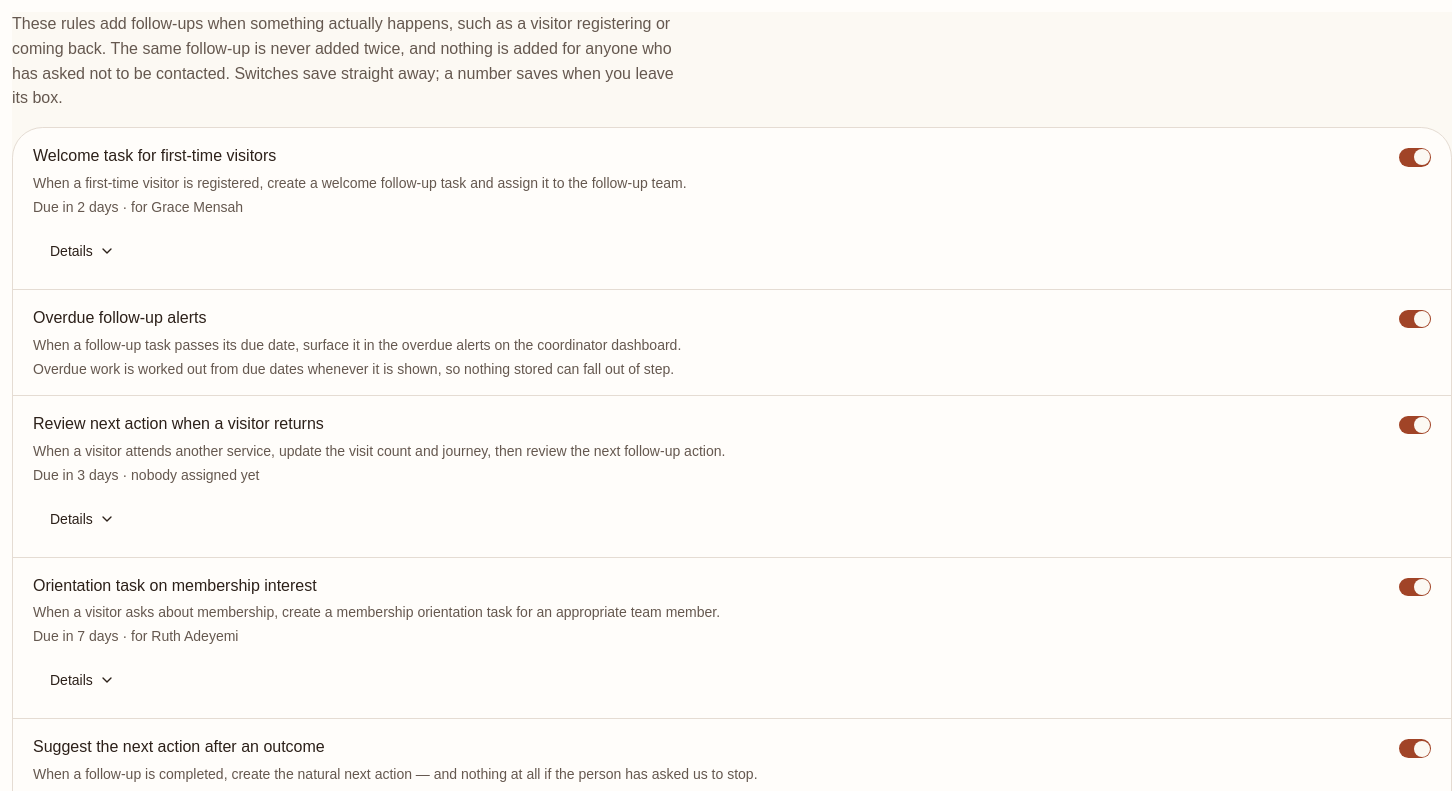
it: AutomationSettings › asks for a number instead of saving an empty box as 0 (H3/M7)
Click the button "Details" below "Welcome task for first-time visitors" at (82, 251), box [33,229,132,273]
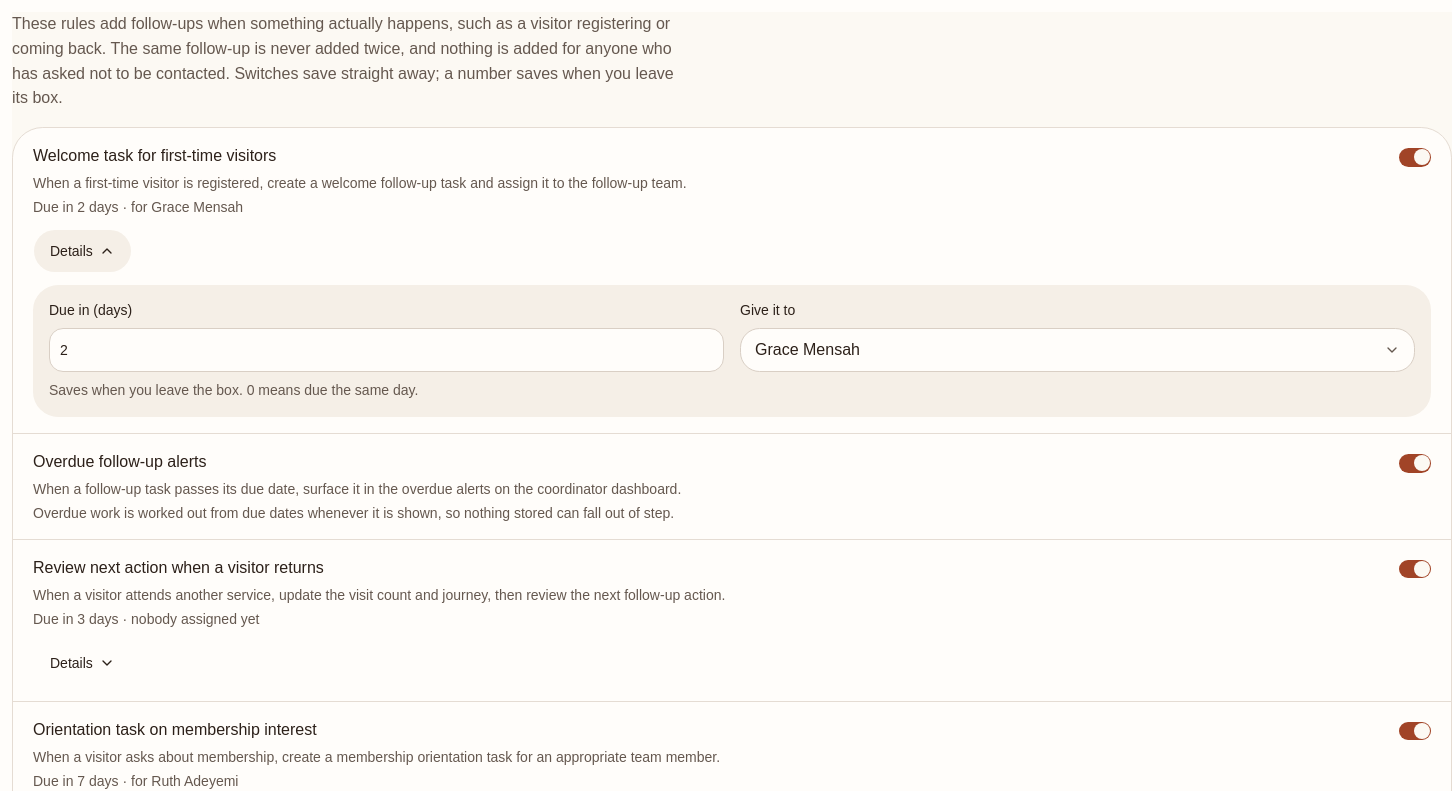
Clear the number field labelled "Due in (days)" at (386, 350), box [49,328,724,372]
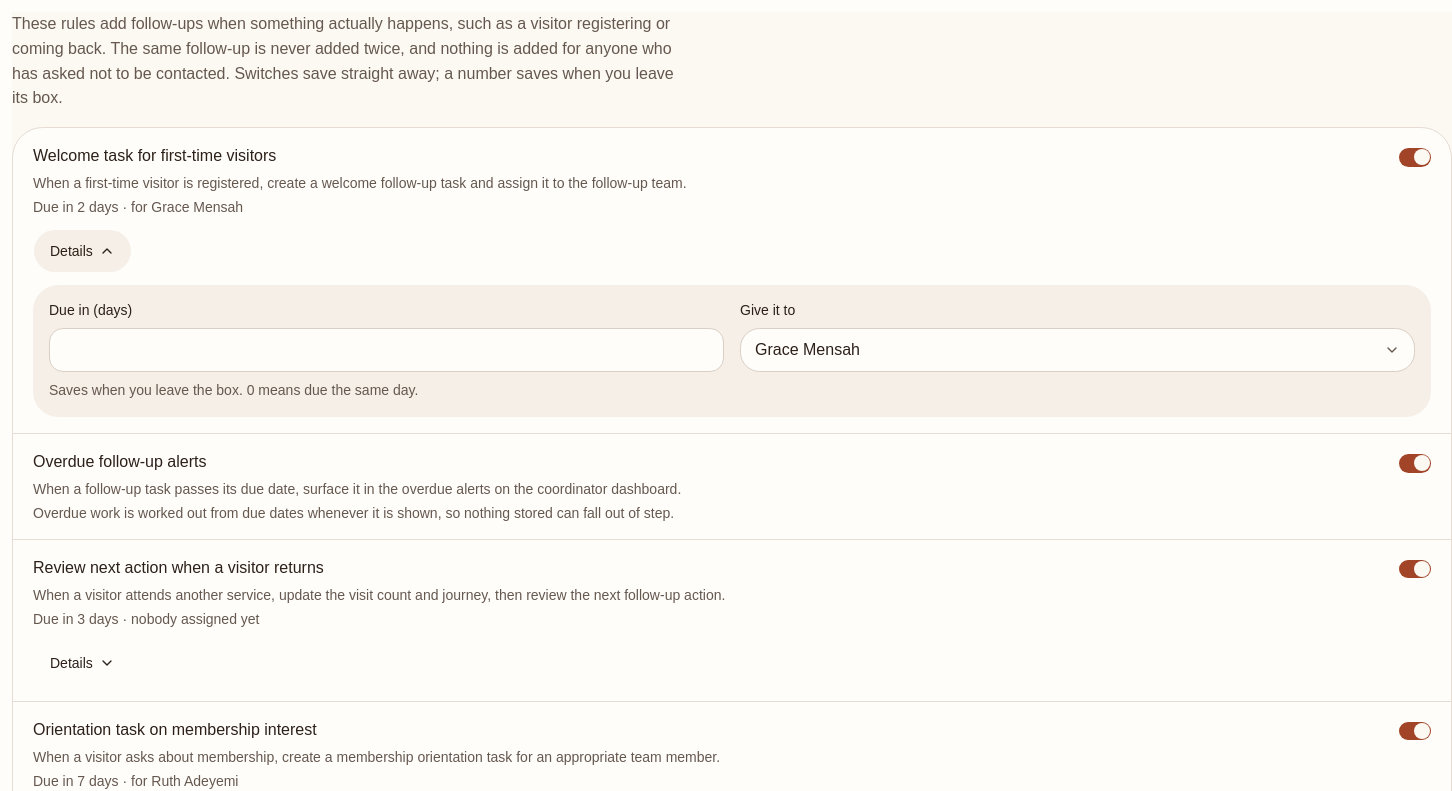
Leave the number field labelled "Due in (days)", box [49,328,724,372]
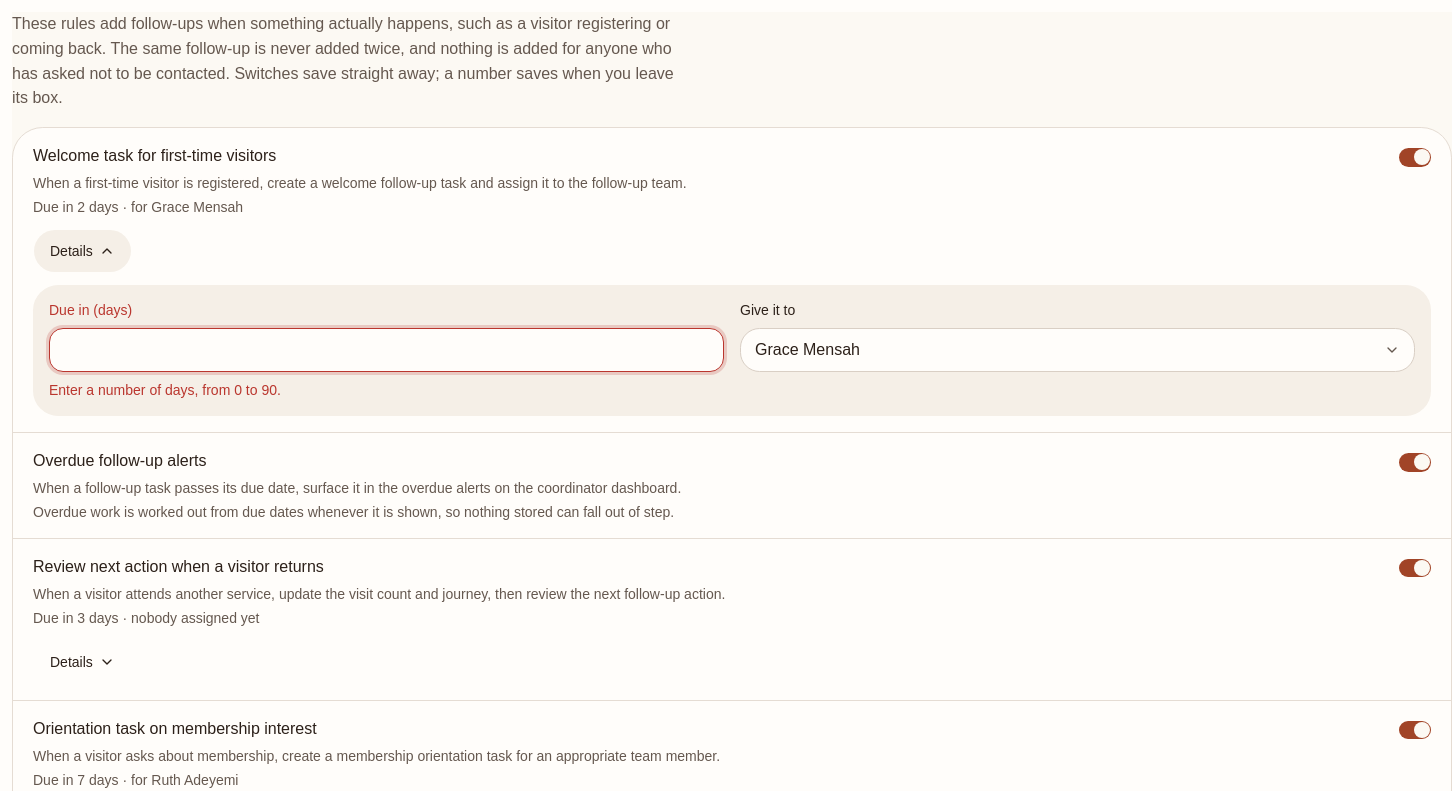
Expected: the text "Enter a number of days, from 0 to 90." is shown, [49,382,281,398]
Type "100" into the number field labelled "Due in (days)" at (386, 350), box [49,328,724,372]
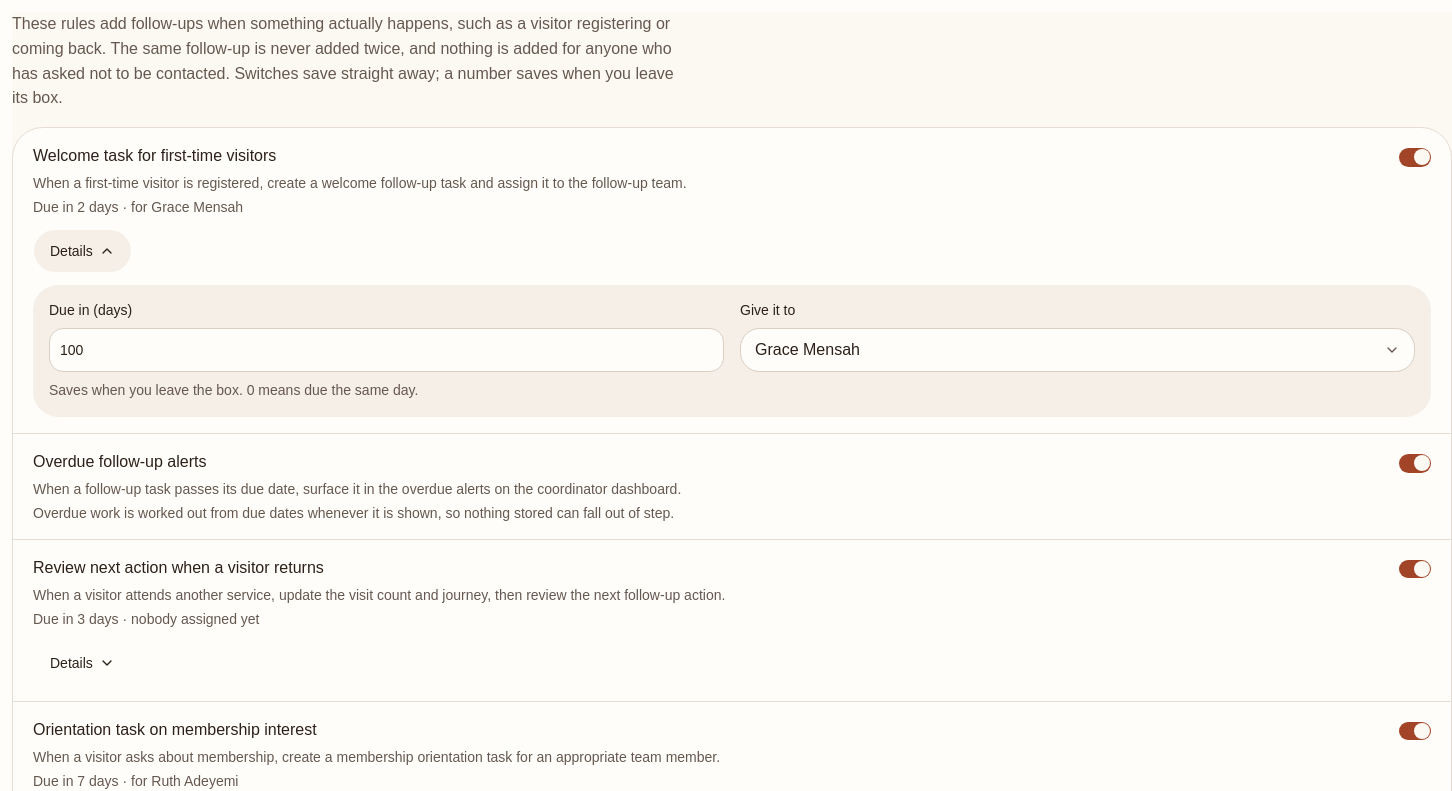
Leave the number field labelled "Due in (days)", box [49,328,724,372]
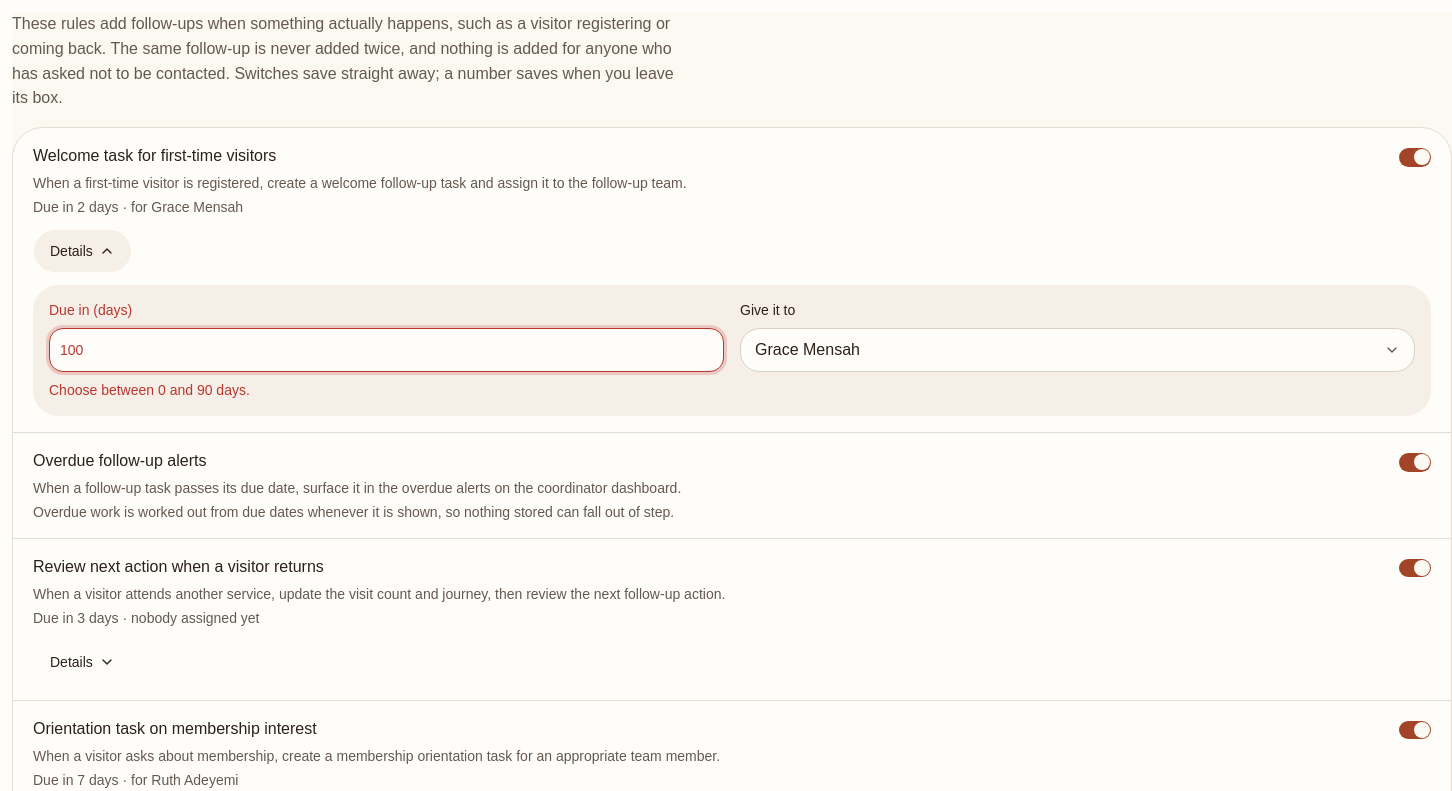
Expected: the text "Choose between 0 and 90 days." is shown, [49,382,250,398]
